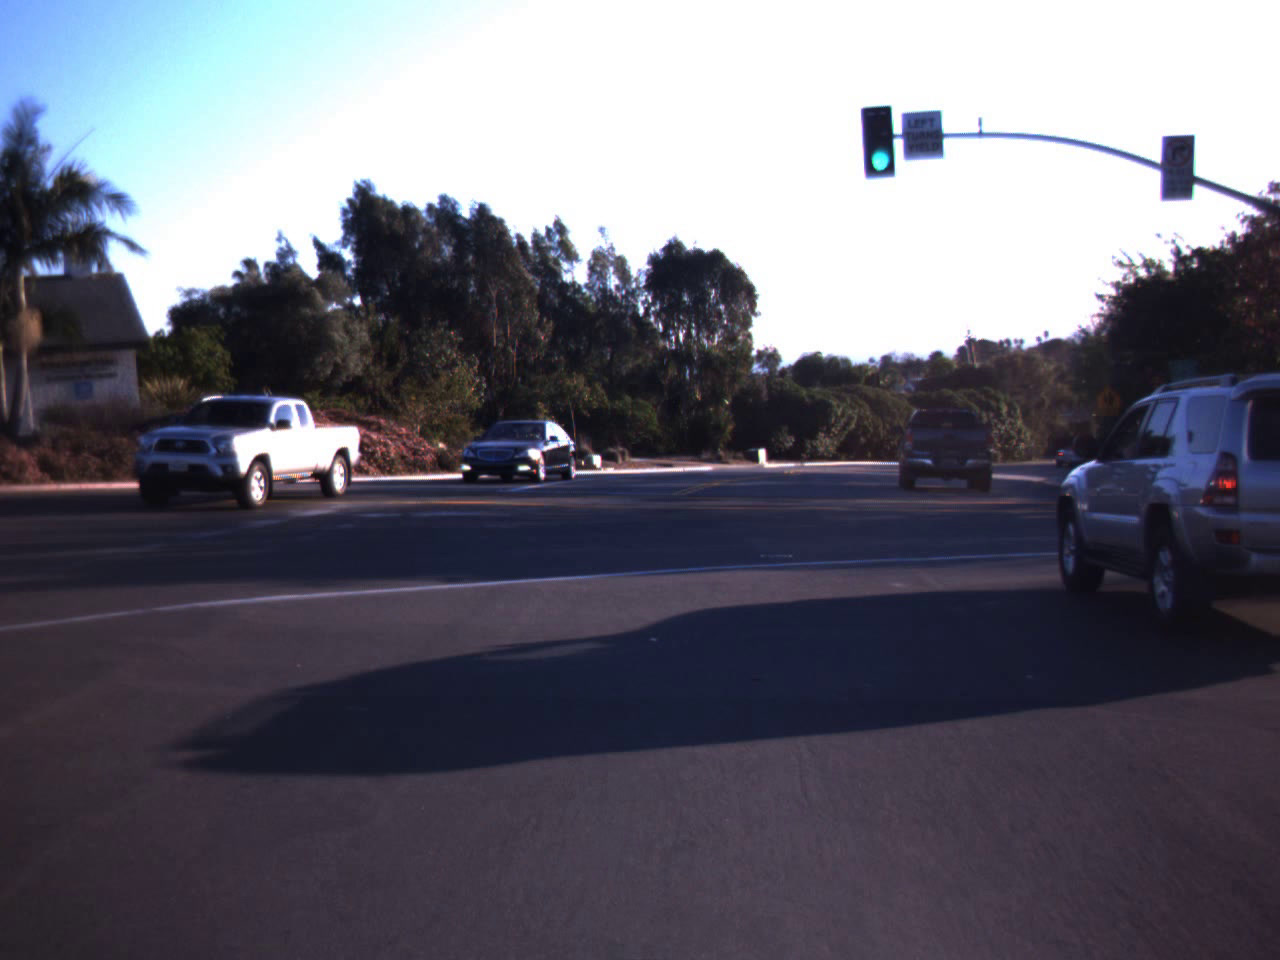go: (858, 89, 900, 179)
